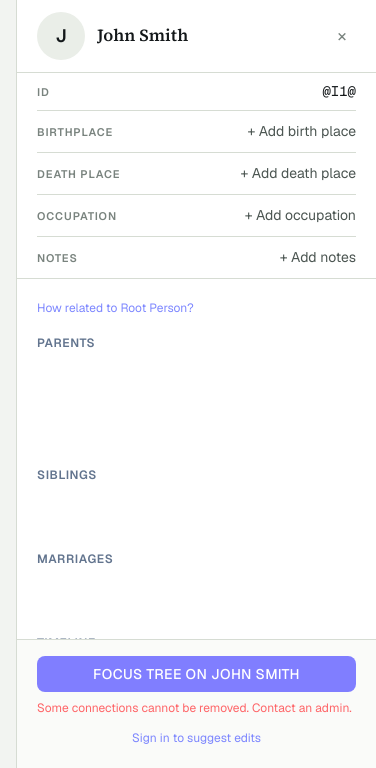
Test: PersonDrawer › Relationship calculator › shows a generic error message when the request throws
What coordinates should you click on to do the following:
click the button with test id "person-drawer-relationship-button"
I would click on:
 (115, 308)
Its box is [37,300,194,316].
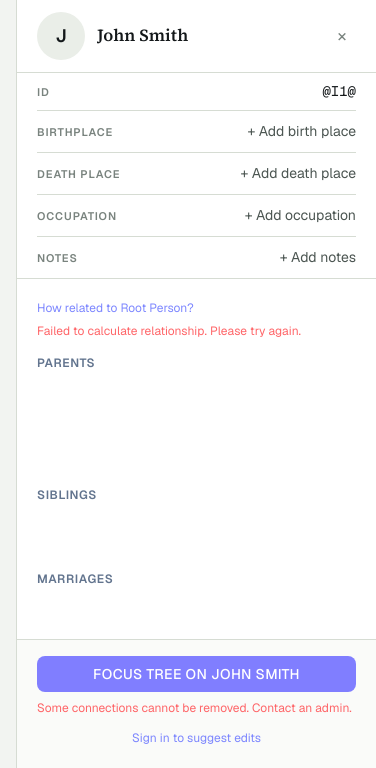
Check: the text with test id "person-drawer-relationship-error" reads "Failed to calculate relationship. Please try again.", box [37,323,301,339]
